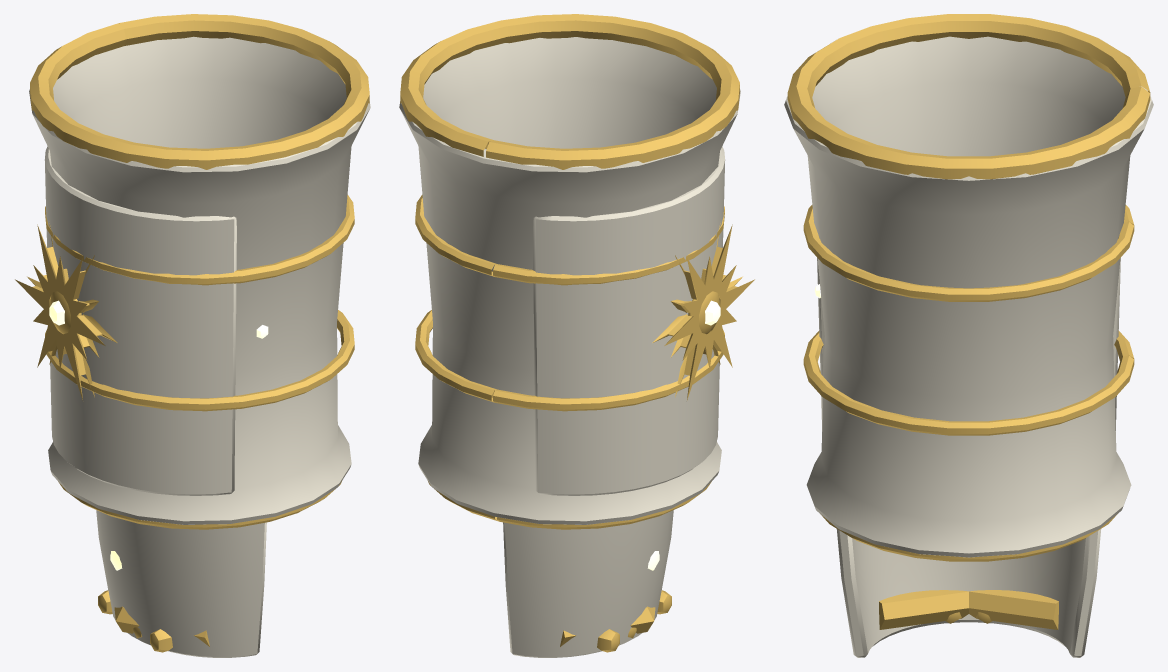
File: asc_seraph_paladin_gloves_R.glb
3 renders of one model, left to right at view 1: azimuth 30°, elevation 25°; view 2: azimuth 150°, elevation 25°; view 3: azimuth 270°, elevation 25°, orthographic. The views are drawn at different scales.
Parts seen in each view (by area): view 1: asc_seraph_paladin_gloves, AT_hand_R; view 2: asc_seraph_paladin_gloves, AT_hand_R; view 3: asc_seraph_paladin_gloves, AT_hand_R.
Part boxes in pixels (x1,y1,x2,y2): asc_seraph_paladin_gloves: (15, 14, 370, 529); AT_hand_R: (96, 510, 266, 657); asc_seraph_paladin_gloves: (399, 14, 754, 529); AT_hand_R: (503, 510, 673, 657); asc_seraph_paladin_gloves: (784, 14, 1153, 561); AT_hand_R: (836, 529, 1101, 657).
Bounding box in the file's own units: 0.1974 × 0.3408 × 0.2004.
